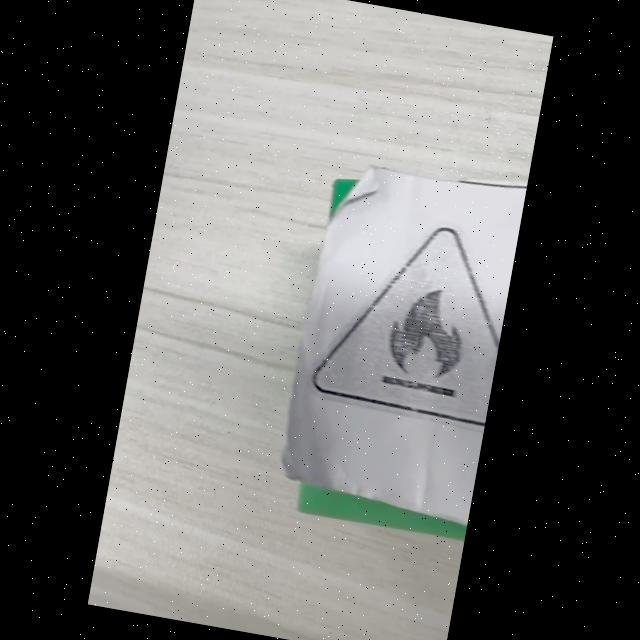Fire: (314, 226, 500, 426)
